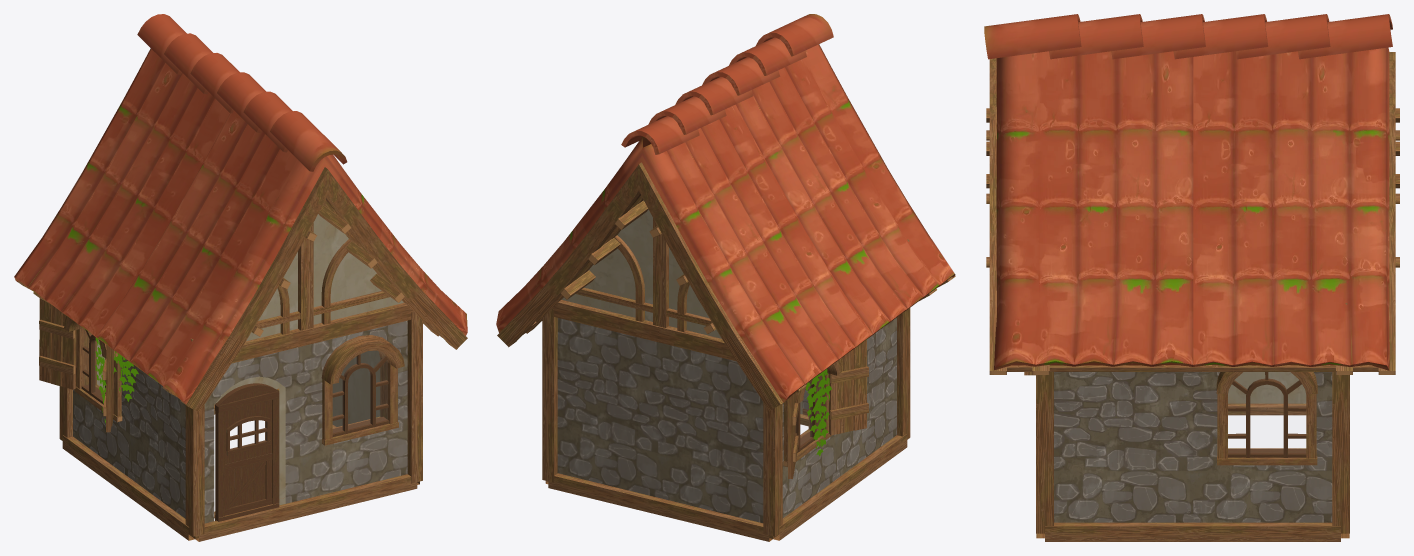
The model's file is cabin.glb.
3 views of the same model, side by side, from view 1: azimuth 30°, elevation 25°; view 2: azimuth 150°, elevation 25°; view 3: azimuth 270°, elevation 25° (orthographic). The views are drawn at different scales.
Visible parts, largest first — view 1: house-cabin; view 2: house-cabin; view 3: house-cabin.
Part boxes in pixels (x1,y1,x2,y2): house-cabin: (14, 14, 467, 541); house-cabin: (496, 14, 955, 541); house-cabin: (984, 14, 1399, 541).
Size of the model in its own units: 5.51 by 6.85 by 5.62.
Materials: 6 (5 with a texture image).
